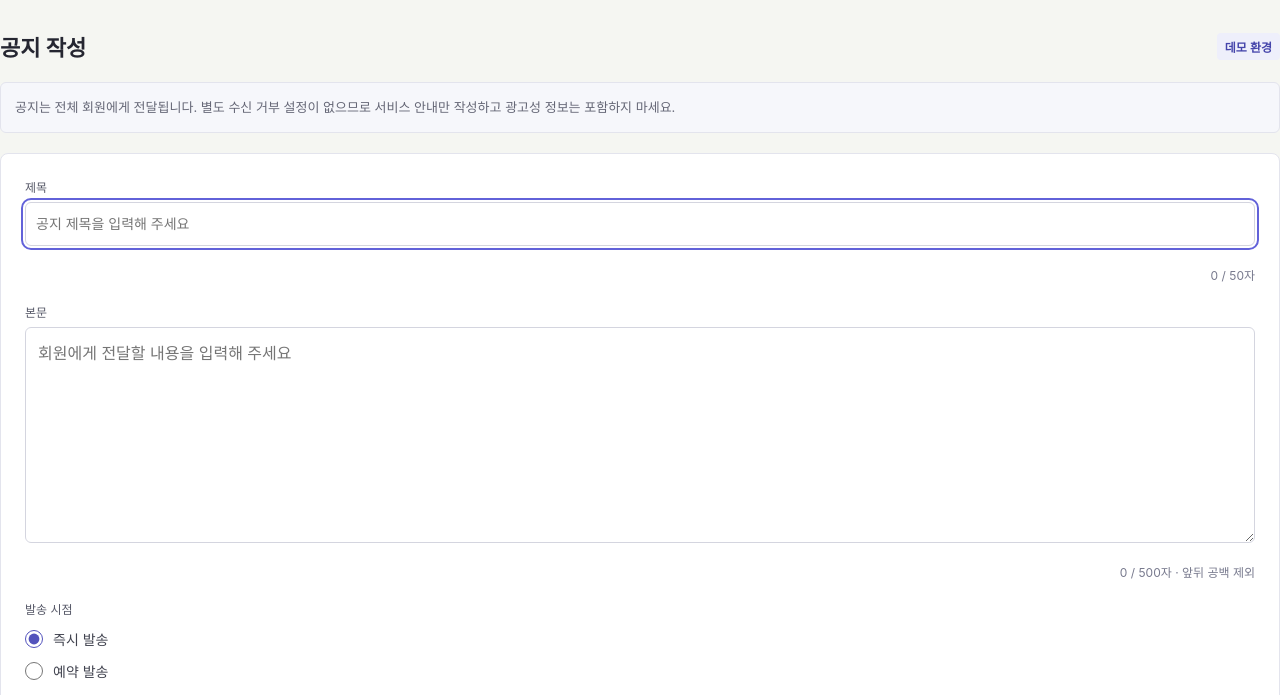
notice screens › prevents blind duplicate creation when a response is lost
The image size is (1280, 695).
Type "테스트 공지" into the field labelled "제목" at (640, 224), box [25, 202, 1255, 246]
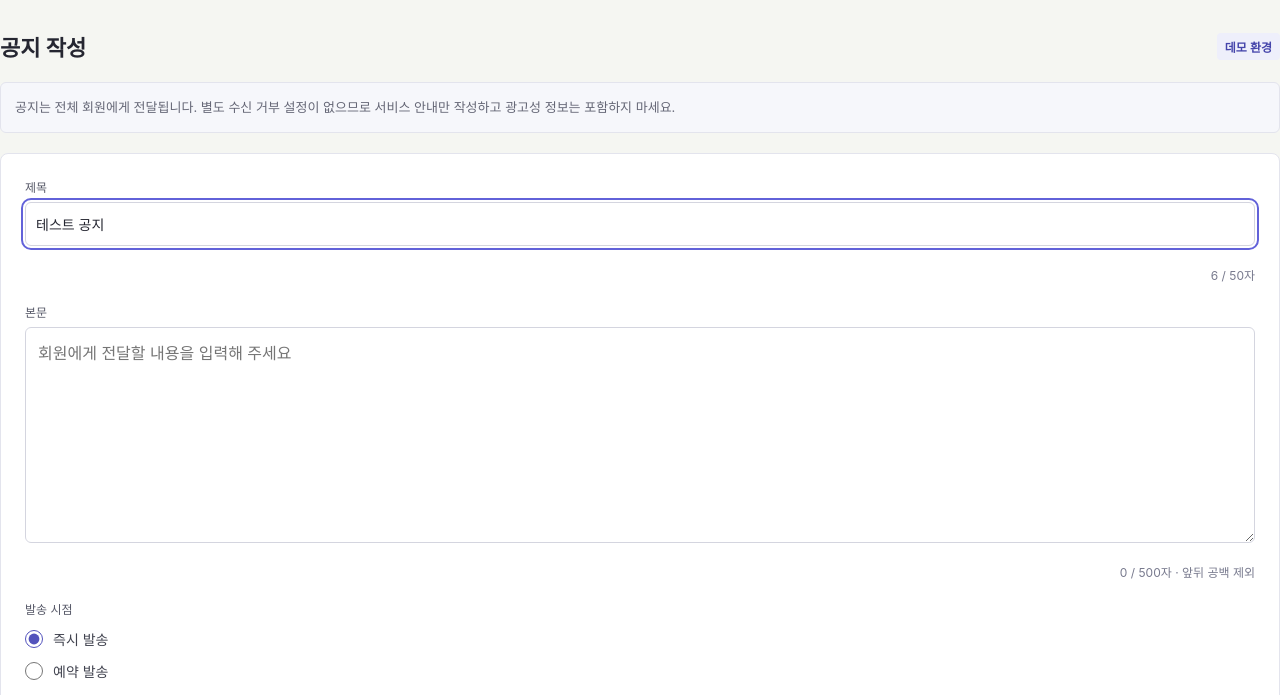
Type "공지 본문입니다." into the text box labelled "본문" at (640, 435), box [25, 327, 1255, 543]
(page scrolled)
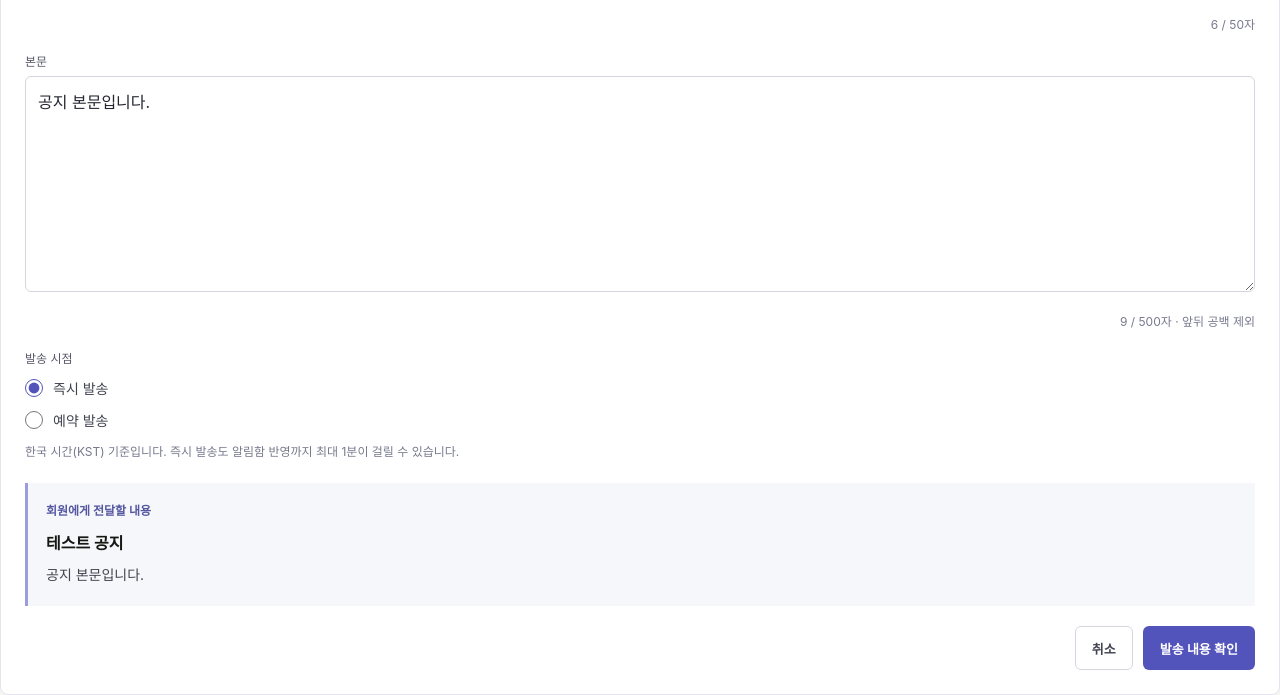
Click the button "발송 내용 확인" at (1199, 648), box [1143, 626, 1255, 670]
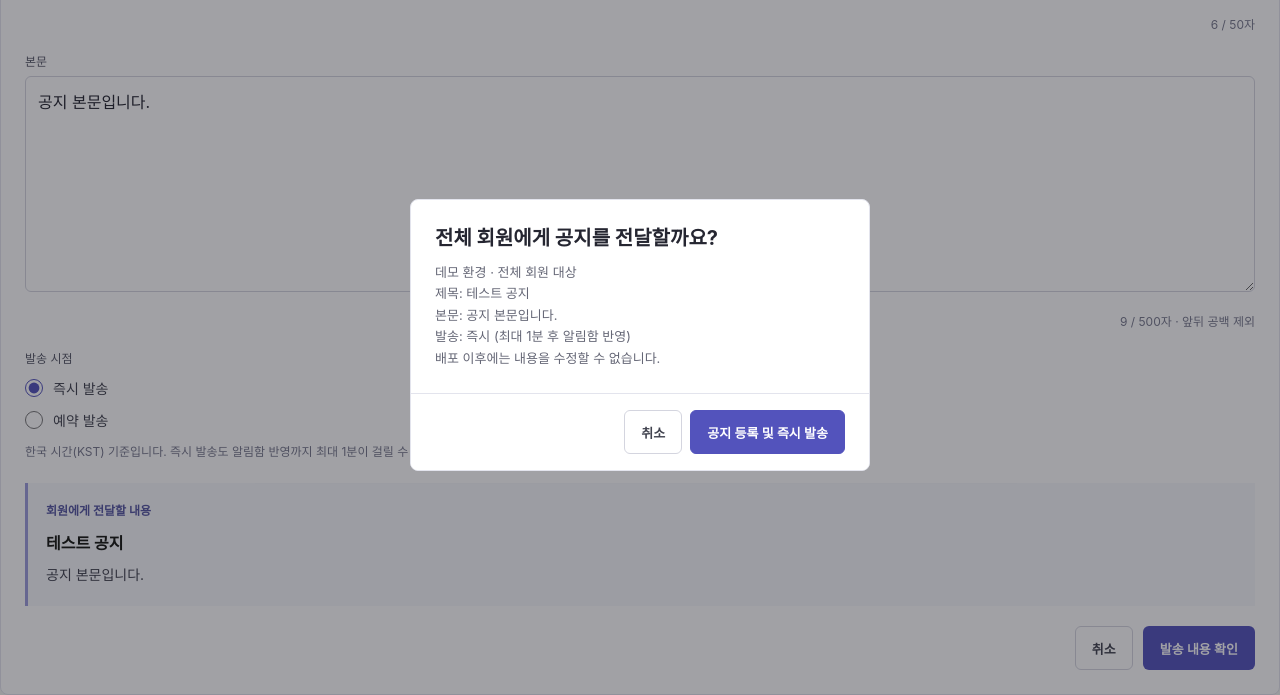
Click the button "공지 등록 및 즉시 발송" at (768, 432), box [690, 410, 845, 454]
(page scrolled)
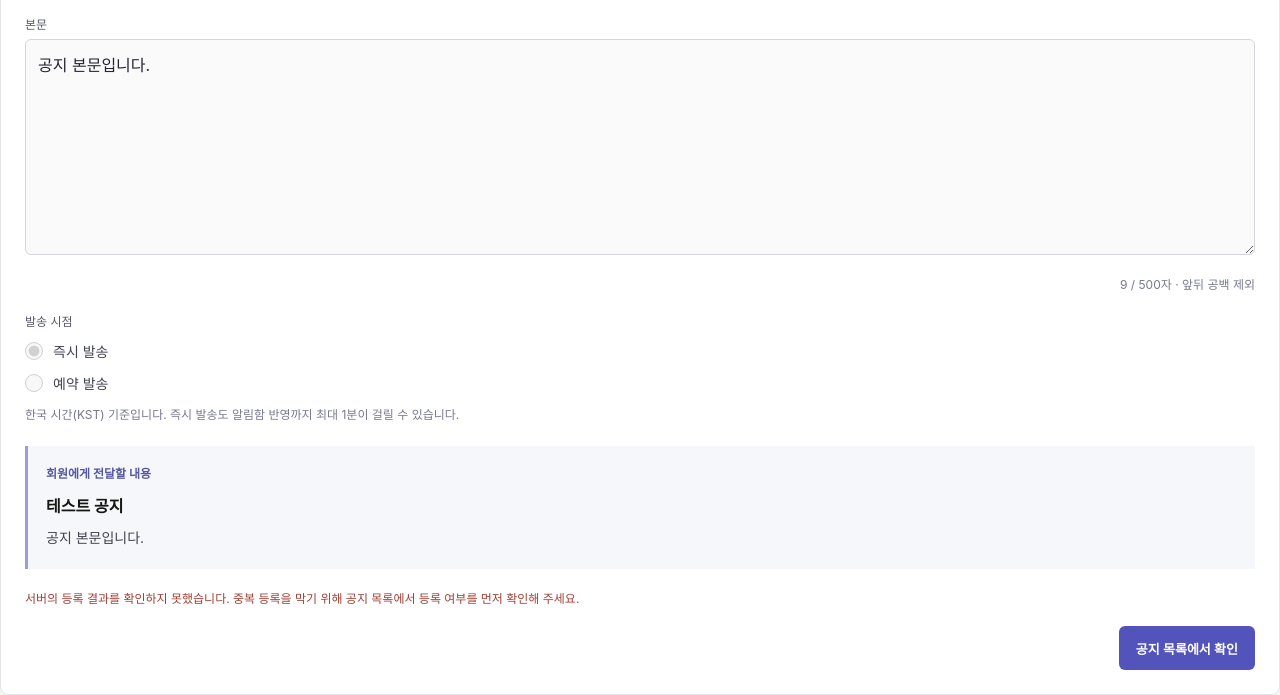
Now the message shows "등록 여부를 먼저 확인", box [25, 591, 579, 606]
Now the button "발송 내용 확인" is gone
